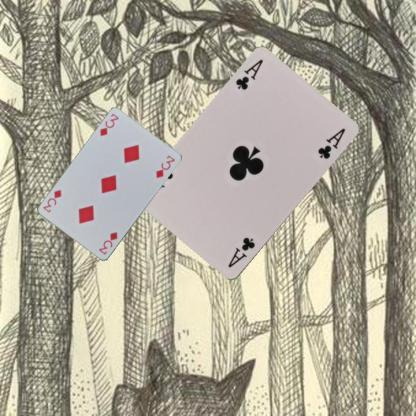3d: (97, 111, 120, 137), (97, 229, 119, 256)
Ac: (224, 234, 256, 270), (233, 57, 264, 92)
